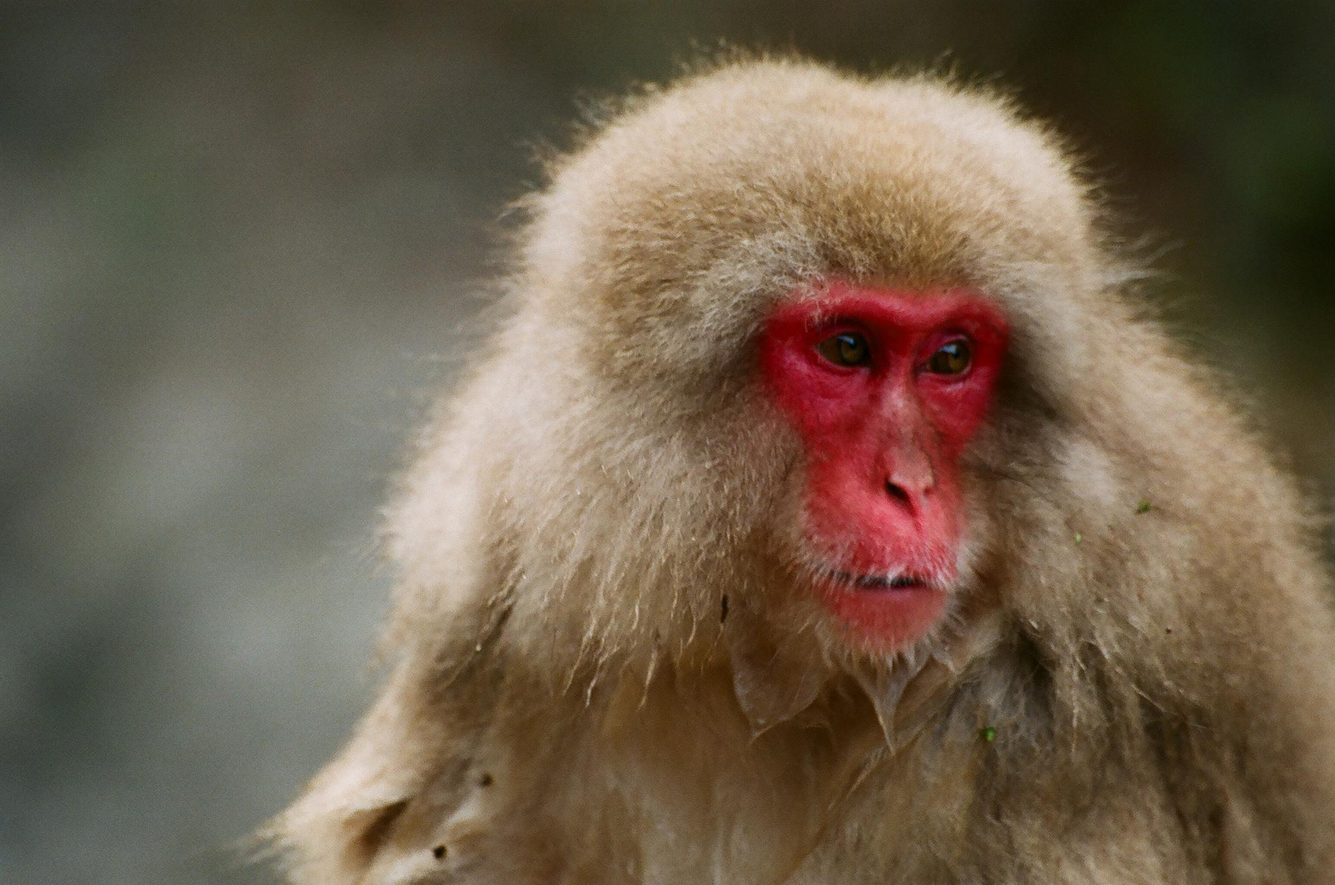monkey: (227, 58, 1335, 885), (752, 270, 1255, 673)
